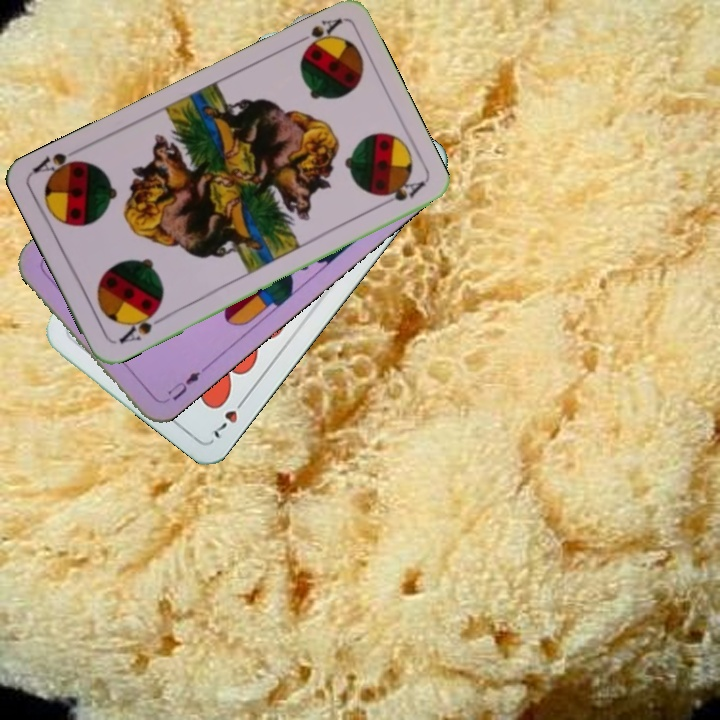EU: (159, 367, 203, 406)
H7: (206, 392, 250, 442)
SA: (289, 14, 345, 58), (115, 305, 167, 347)
